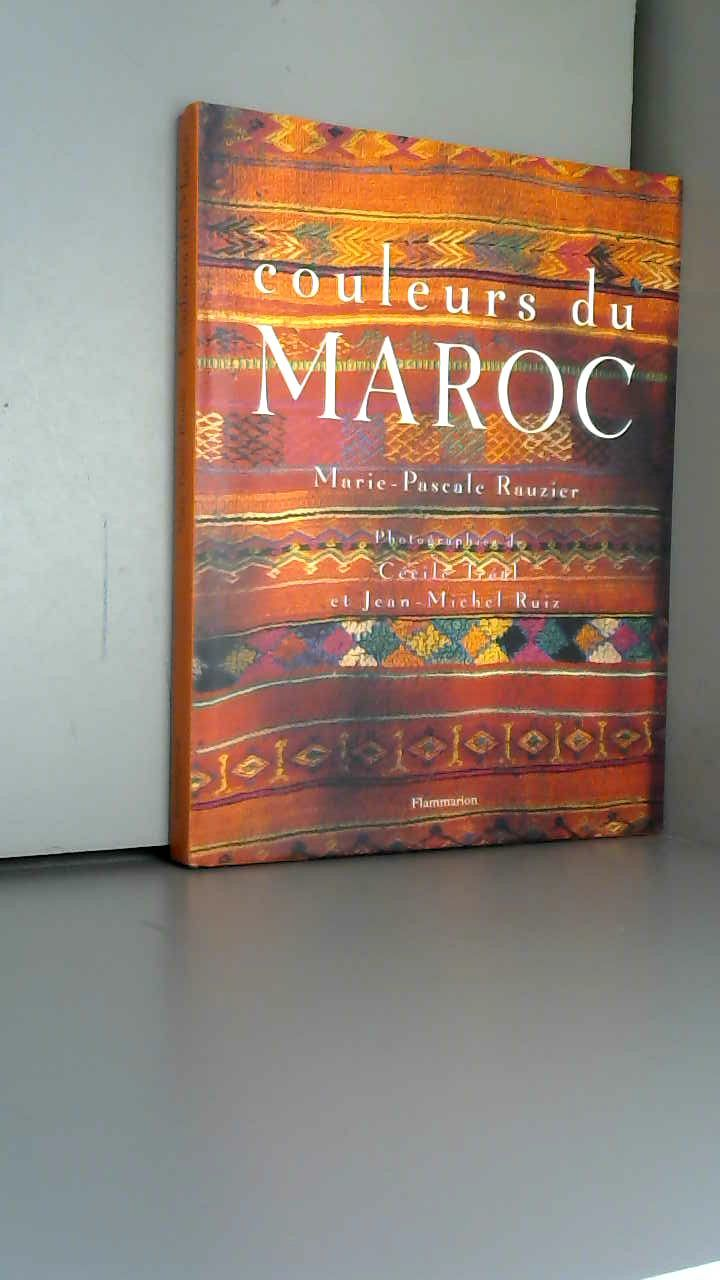book: (140, 70, 720, 895)
